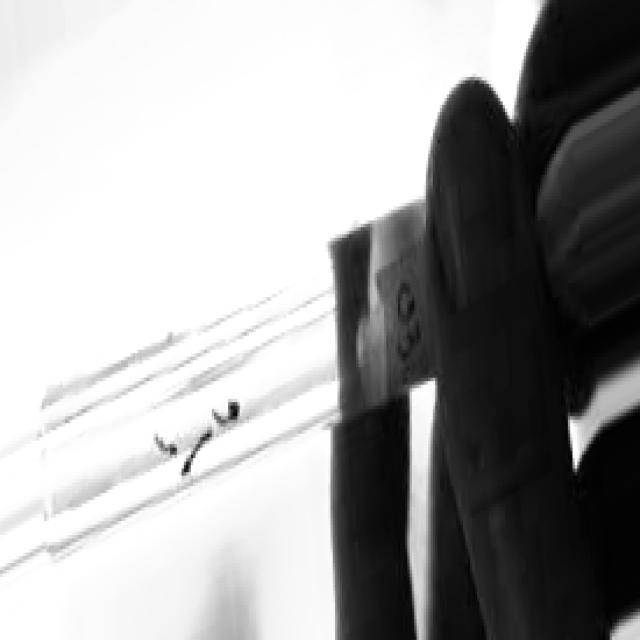larvas: (181, 429, 213, 479), (212, 401, 238, 426), (156, 434, 176, 457)
